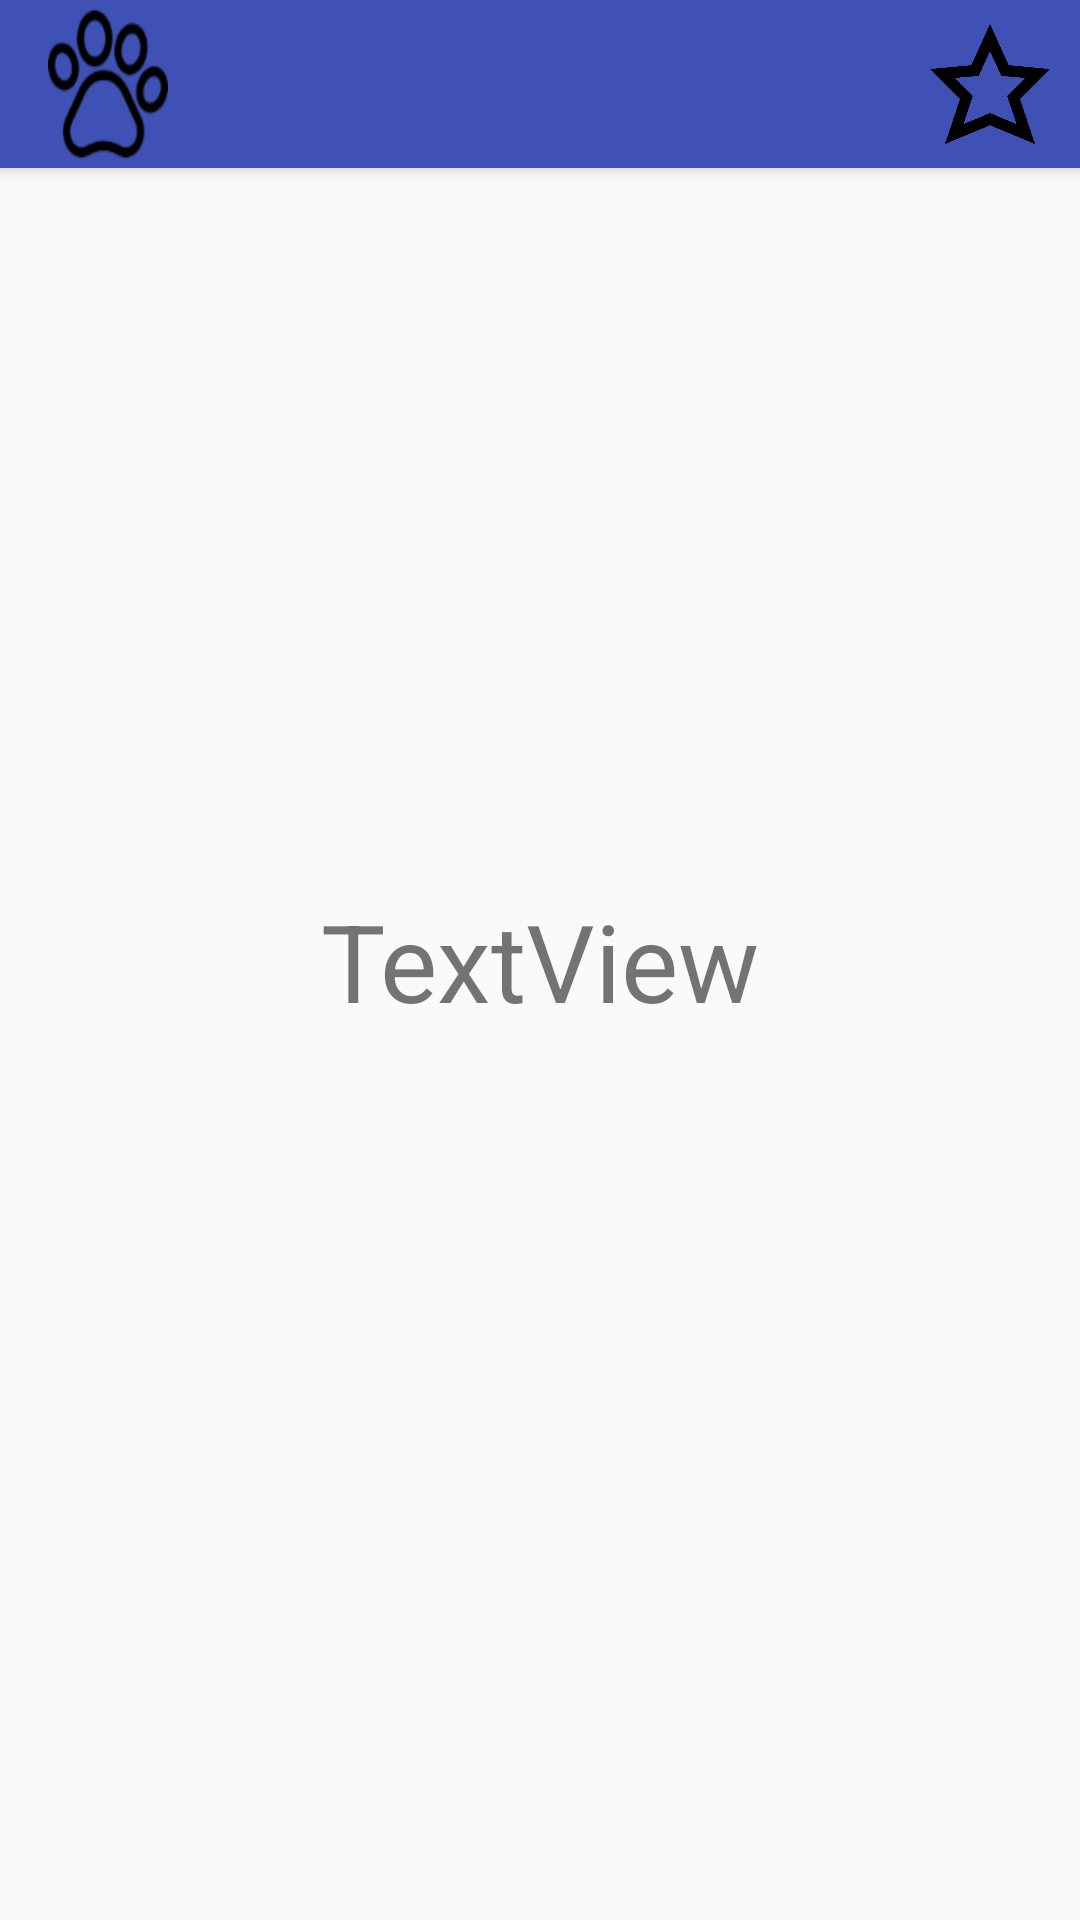

Named icons in this screenshot (1080 x 1920) and their centers, point (x, y):
pawprint: point (108, 84)
star: point (990, 84)
